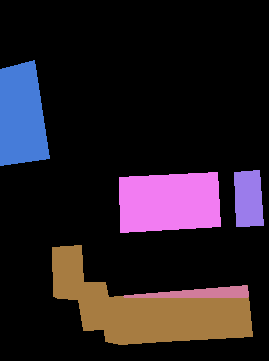parkingspot: (52, 245, 252, 344), (119, 172, 220, 232), (0, 60, 49, 165), (234, 170, 263, 226)
